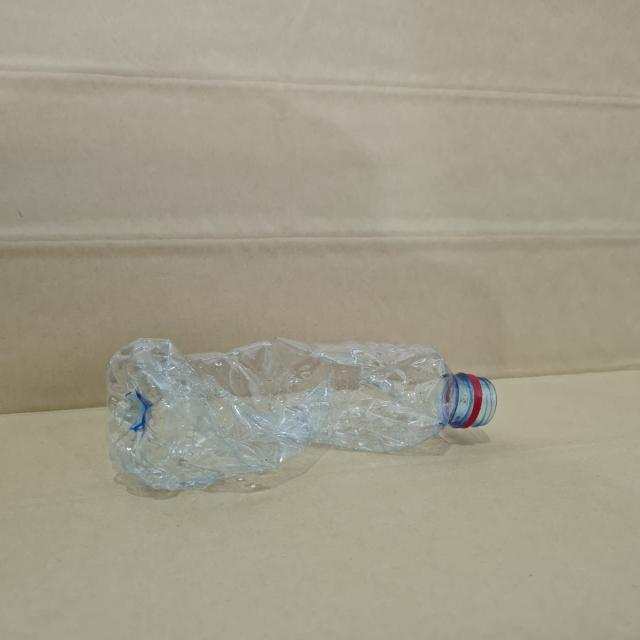plastic bottle: (111, 328, 500, 488)
